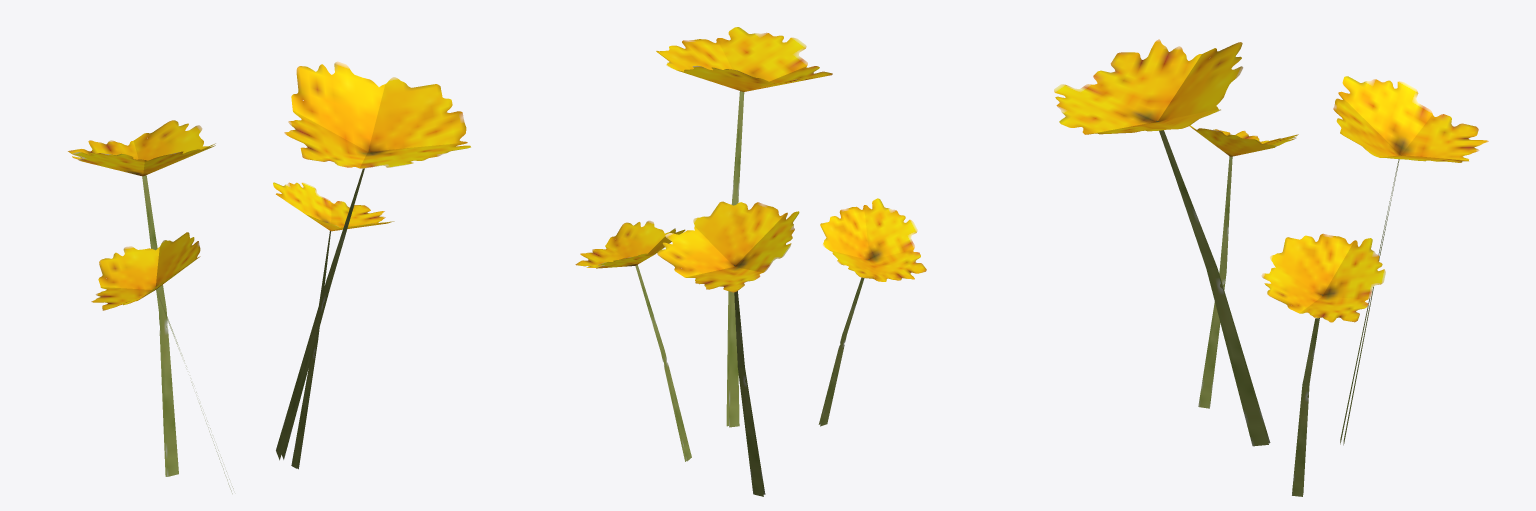
File: Flower_004.fbx
3 views of the same model, side by side, from view 1: azimuth 30°, elevation 25°; view 2: azimuth 150°, elevation 25°; view 3: azimuth 270°, elevation 25° (orthographic). The views are drawn at different scales.
Parts seen in each view (by area): view 1: FlowerPatch_004; view 2: FlowerPatch_004; view 3: FlowerPatch_004.
Boxes of the visible parts, bbox=[...] form: FlowerPatch_004: bbox=[68, 61, 470, 493]; FlowerPatch_004: bbox=[575, 27, 926, 496]; FlowerPatch_004: bbox=[1054, 39, 1488, 496].
Bounding box in the file's own units: 62.97 × 67.9 × 70.66.
